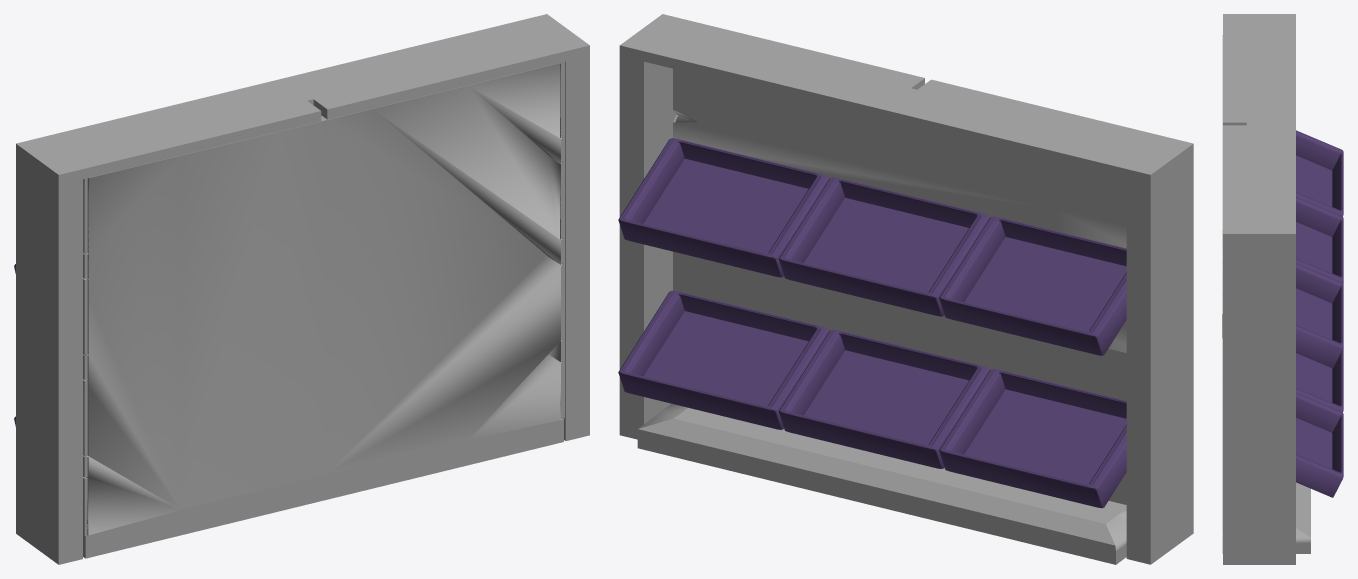
The model's file is shelfMarker4.fbx.
3 renders of one model, left to right at view 1: azimuth 30°, elevation 25°; view 2: azimuth 150°, elevation 25°; view 3: azimuth 270°, elevation 25°, orthographic. The views are drawn at different scales.
Parts seen in each view (by area): view 1: Box002; view 2: Box002, Object002; view 3: Box002, Object002.
Boxes of the visible parts, x1,y1,x2,y2 form: Box002: (16,14,589,564); Box002: (619,14,1193,564); Object002: (618,138,1126,508); Box002: (1222,14,1310,564); Object002: (1296,130,1343,497).
Size of the model in its own units: 21.96 by 15.41 by 5.12.
